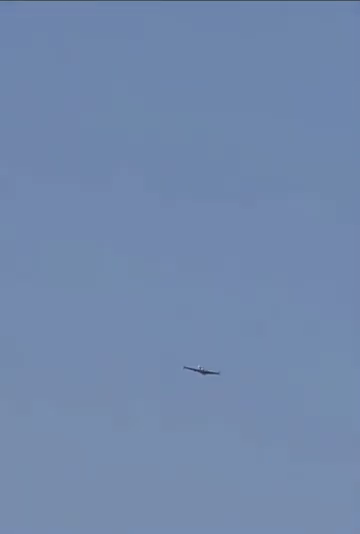shahed: (182, 363, 220, 377)
